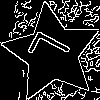L: (27, 28, 81, 75)
